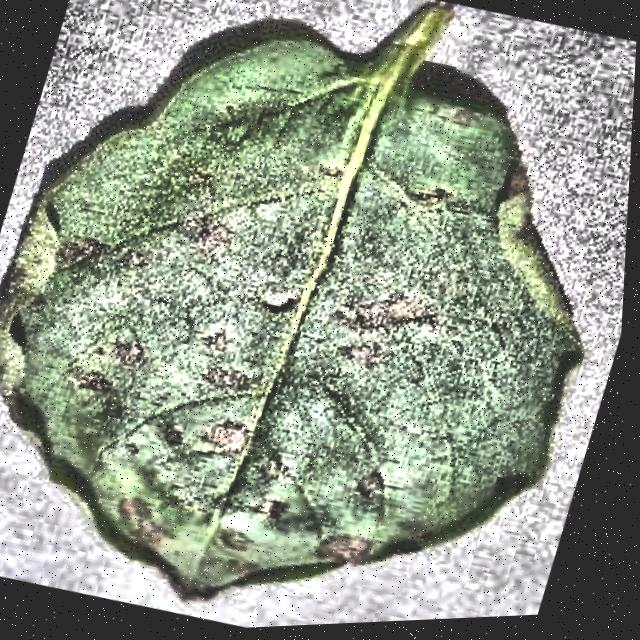Potato_leaf_early_blight: (0, 9, 580, 594)
